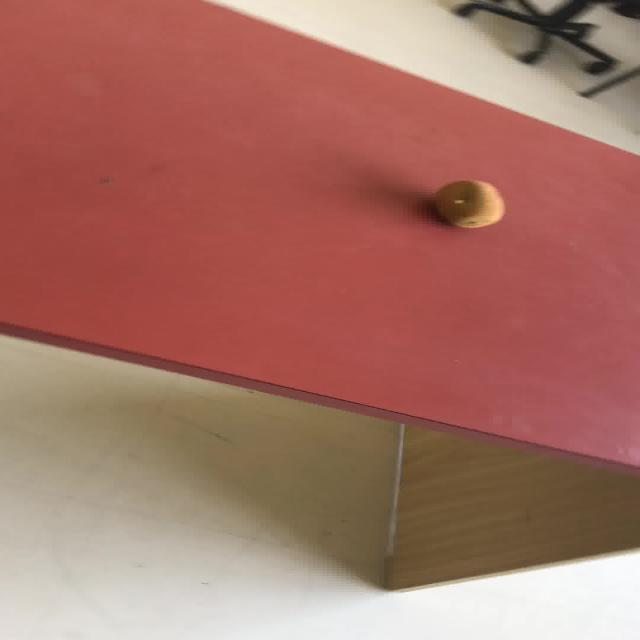kiwi: (433, 179, 504, 228)
